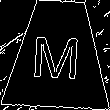M_N: (32, 28, 84, 81)
